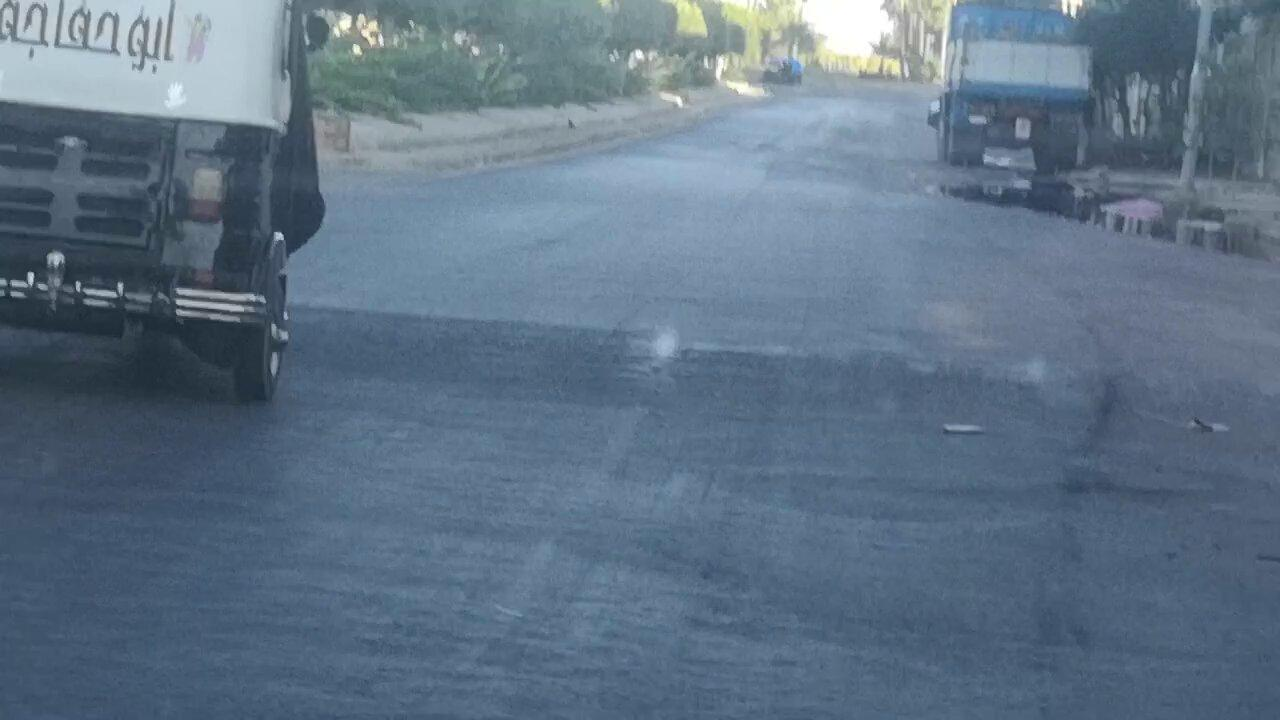Bump: (298, 295, 1225, 443)
